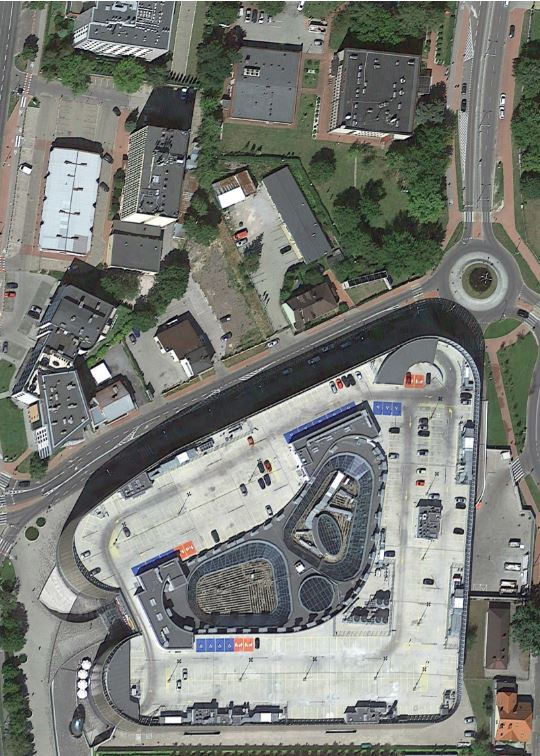family house: (9, 282, 119, 464), (319, 43, 427, 140), (113, 120, 198, 221), (59, 1, 188, 67)
garage: (30, 145, 108, 255), (259, 161, 339, 265)
shopping_center: (49, 320, 498, 756)
